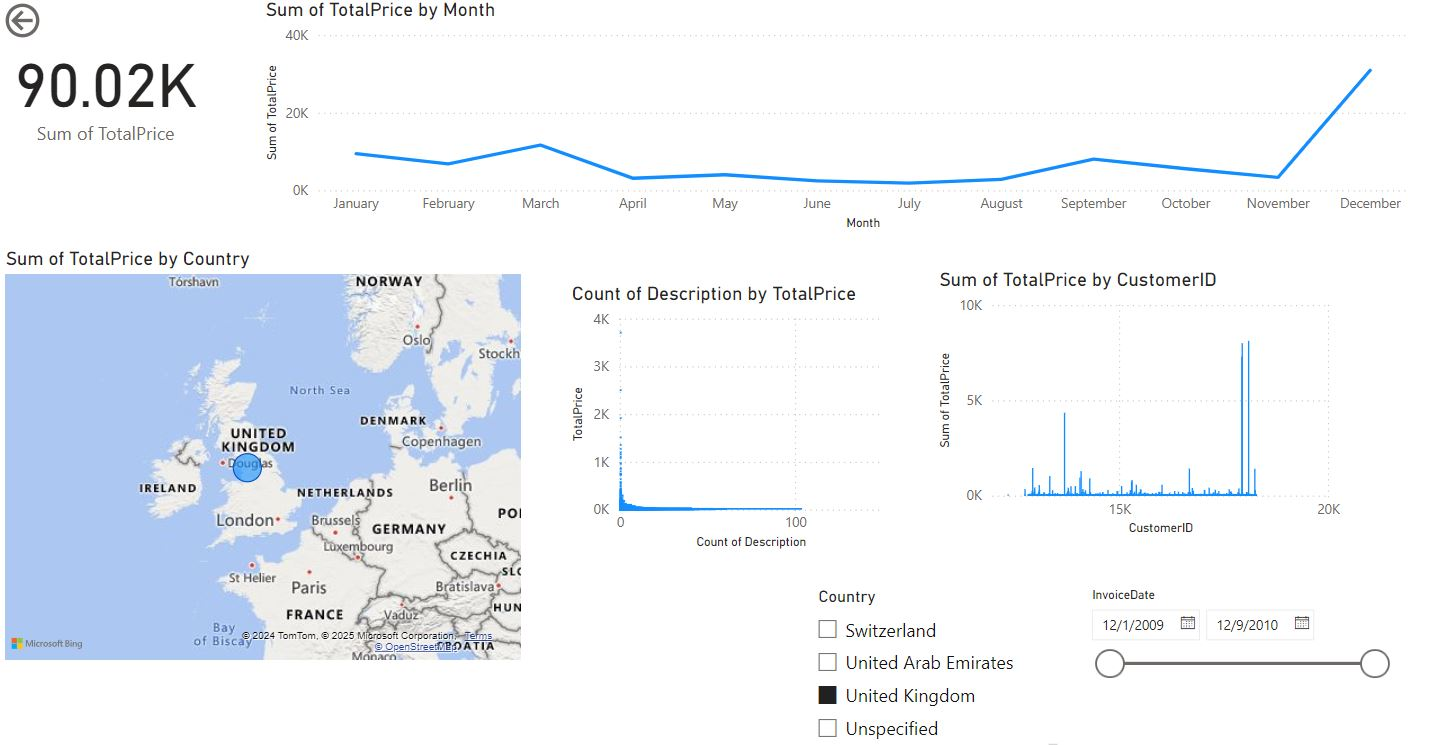

Layout of this report page (visuals, bound fields, positions):
{"tool":"powerbi","page":{"name":"Page 1","canvas":[1280,720],"ordinal":0},"visuals":[{"type":"card","fields":{"Values":["Sum(online_retail_cleaned.TotalPrice)"]},"box":[0,0,188.2,163.9],"z":0},{"type":"lineChart","fields":{"Y":["Sum(online_retail_cleaned.TotalPrice)"],"Category":["online_retail_cleaned.InvoiceDate.Variation.Date Hierarchy.Year","online_retail_cleaned.InvoiceDate.Variation.Date Hierarchy.Quarter","online_retail_cleaned.InvoiceDate.Variation.Date Hierarchy.Month","online_retail_cleaned.InvoiceDate.Variation.Date Hierarchy.Day"]},"box":[230.9,0,1024.9,211],"z":1000},{"type":"clusteredBarChart","fields":{"Category":["online_retail_cleaned.TotalPrice"],"Y":["CountNonNull(online_retail_cleaned.Description)"]},"box":[503.2,252.3,296.5,242.3],"z":2000},{"type":"map","fields":{"Category":["online_retail_cleaned.Country"],"Size":["Sum(online_retail_cleaned.TotalPrice)"]},"box":[0,220.9,467.5,372],"z":3000},{"type":"clusteredColumnChart","fields":{"Category":["online_retail_cleaned.CustomerID"],"Y":["Sum(online_retail_cleaned.TotalPrice)"]},"box":[829.6,239.5,366.3,242.3],"z":4000},{"type":"slicer","fields":{"Values":["online_retail_cleaned.Country"]},"box":[714.1,518.8,230.9,178.2],"z":5000},{"type":"actionButton","box":[0,0,100,40],"z":6000},{"type":"slicer","fields":{"Values":["online_retail_cleaned.InvoiceDate"]},"box":[957.9,518.8,285.1,115.5],"z":7000}]}

Visuals, with their boxes on the page's 1280x720 design canvas (x1, y1, x2, y2). These are canvas units, not pixel positions in the 1434x745 screenshot, which may show the page scaled, cropped or inside an application window:
card - Sum(online_retail_cleaned.TotalPrice): x1=0 y1=0 x2=188 y2=164
lineChart - Sum(online_retail_cleaned.TotalPrice) x online_retail_cleaned.InvoiceDate.Variation.Date Hierarchy.Year: x1=231 y1=0 x2=1256 y2=211
clusteredBarChart - online_retail_cleaned.TotalPrice x CountNonNull(online_retail_cleaned.Description): x1=503 y1=252 x2=800 y2=495
map - online_retail_cleaned.Country x Sum(online_retail_cleaned.TotalPrice): x1=0 y1=221 x2=468 y2=593
clusteredColumnChart - online_retail_cleaned.CustomerID x Sum(online_retail_cleaned.TotalPrice): x1=830 y1=240 x2=1196 y2=482
slicer - online_retail_cleaned.Country: x1=714 y1=519 x2=945 y2=697
actionButton: x1=0 y1=0 x2=100 y2=40
slicer - online_retail_cleaned.InvoiceDate: x1=958 y1=519 x2=1243 y2=634
